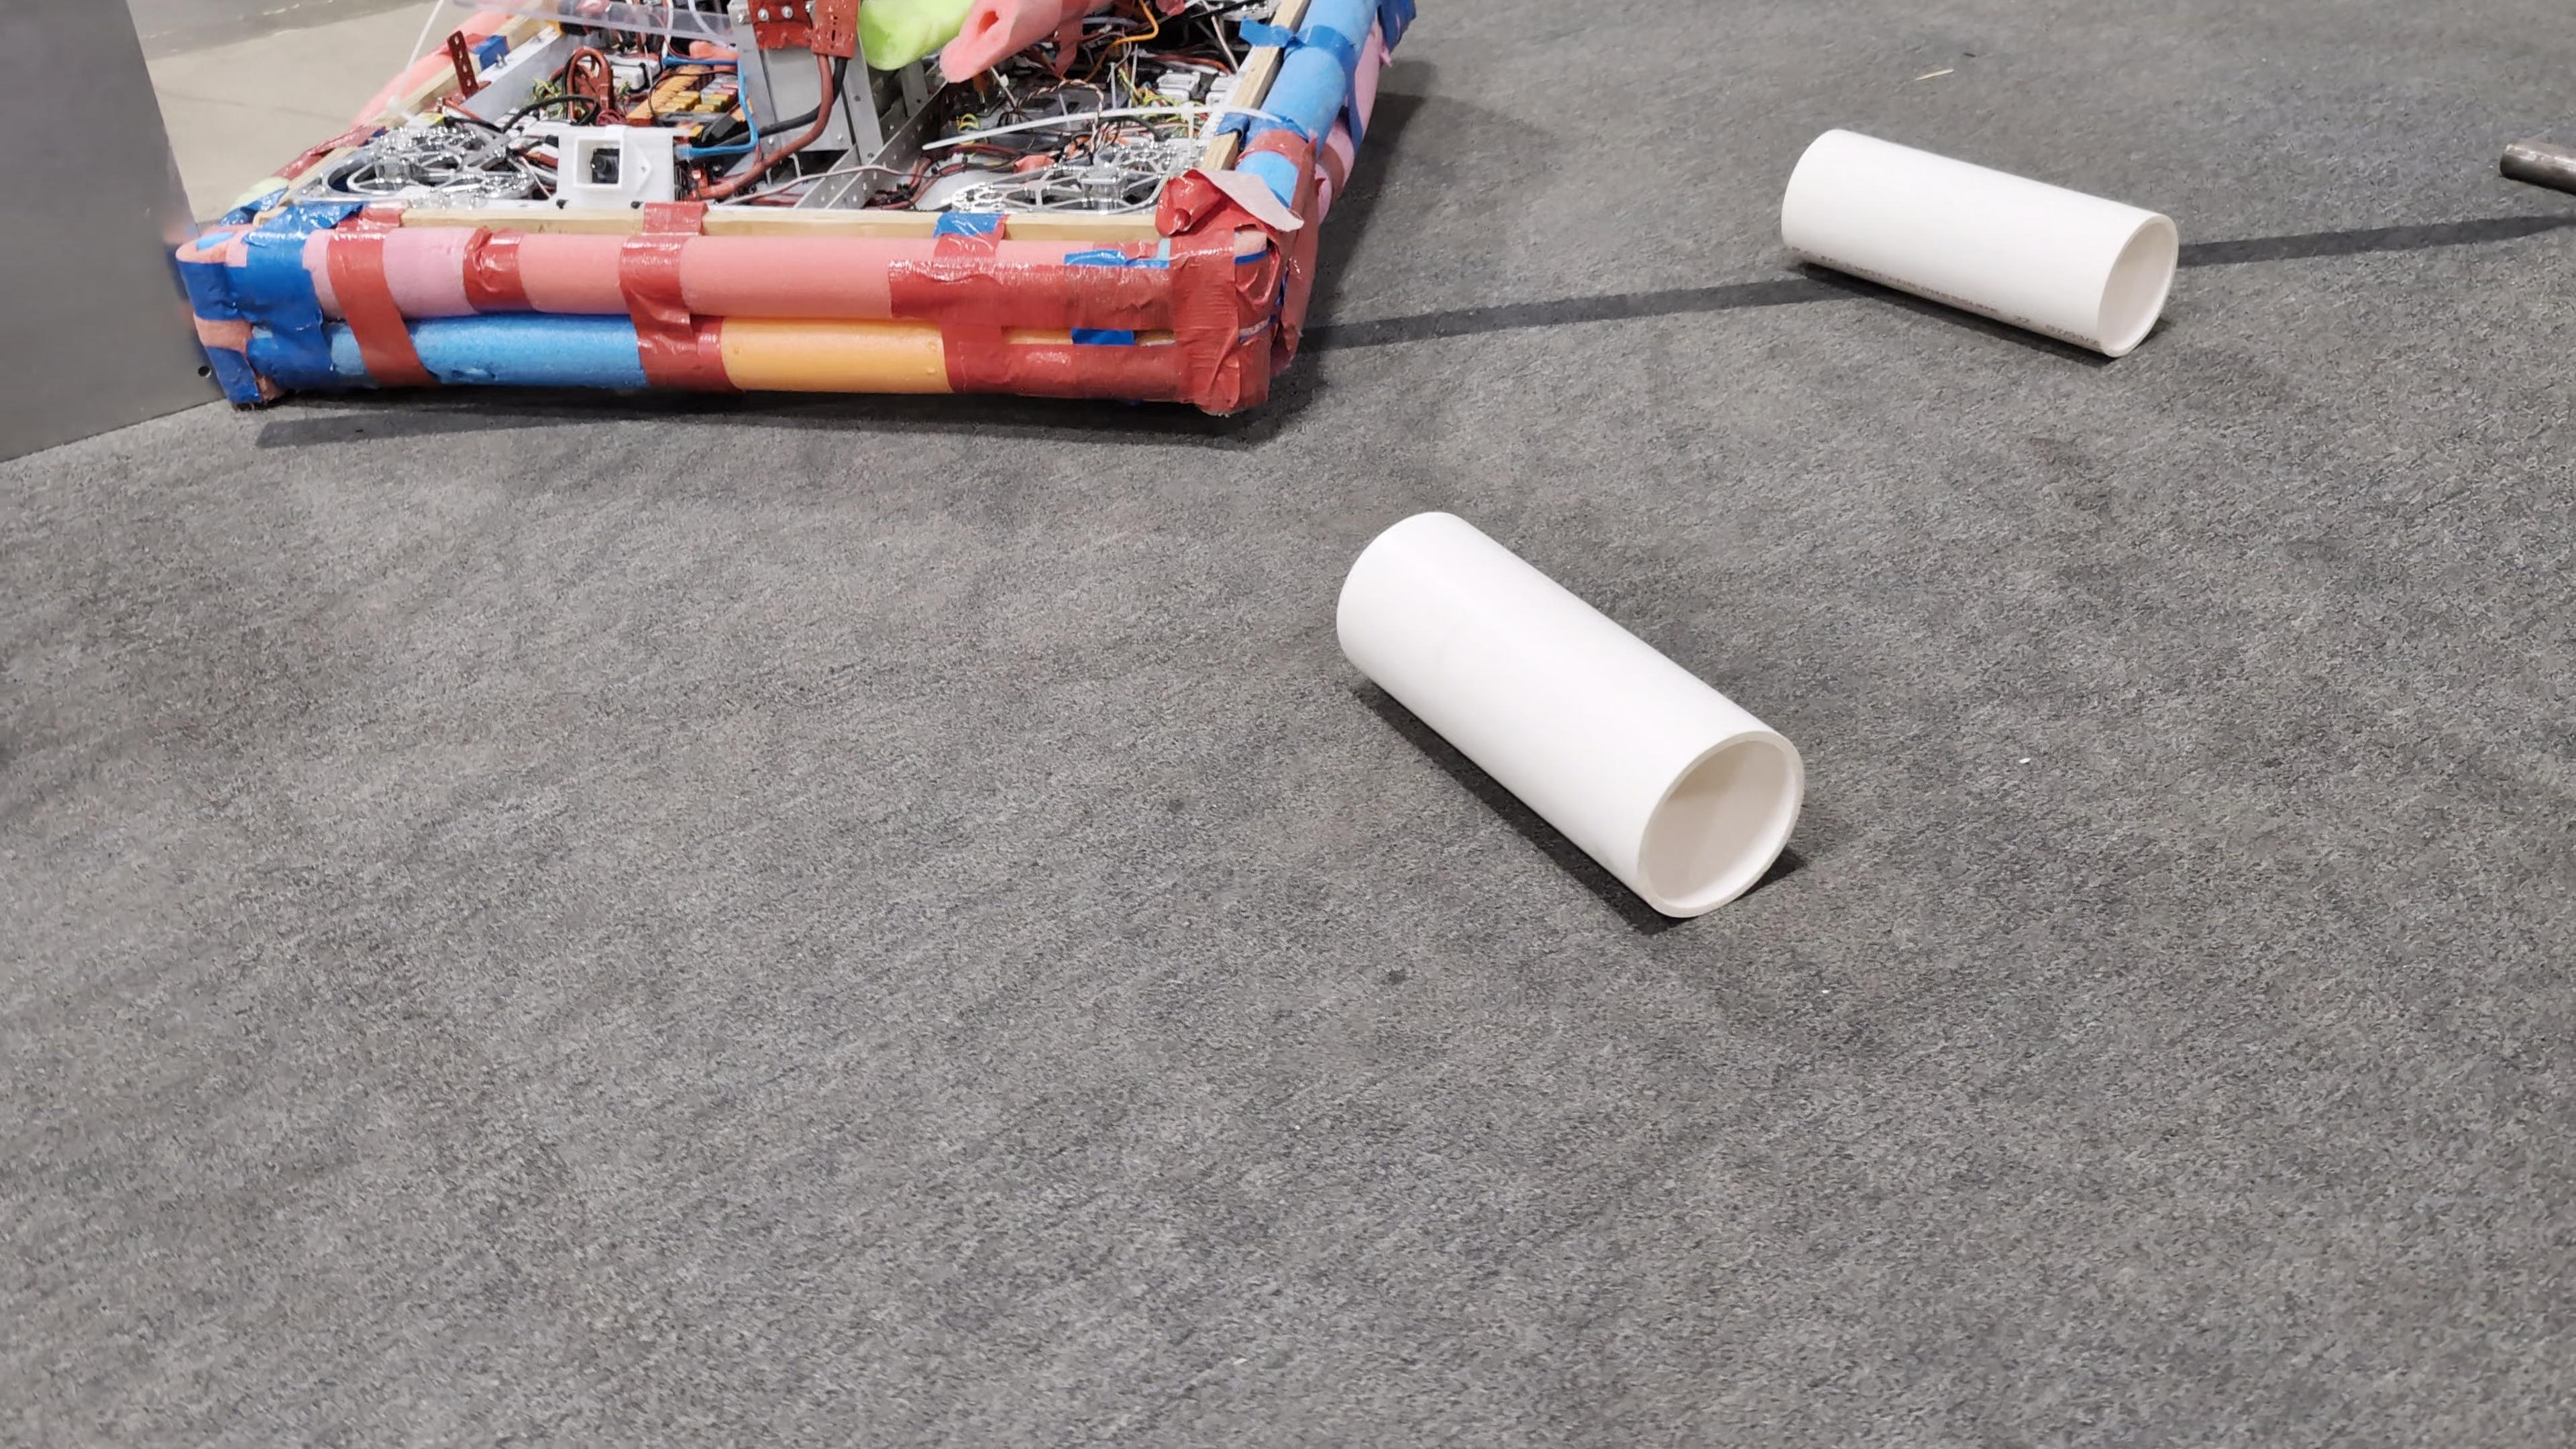coral: (1330, 504, 1805, 918), (1778, 122, 2181, 361)
